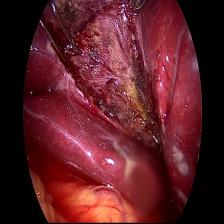Bipolar: (39, 0, 81, 67)
Grasper: (128, 0, 152, 16)
